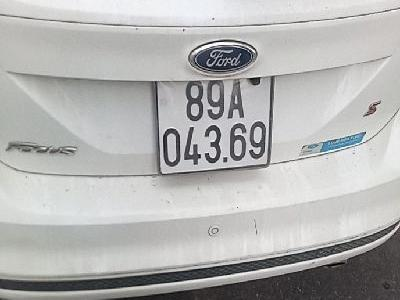number: (154, 77, 273, 173)
